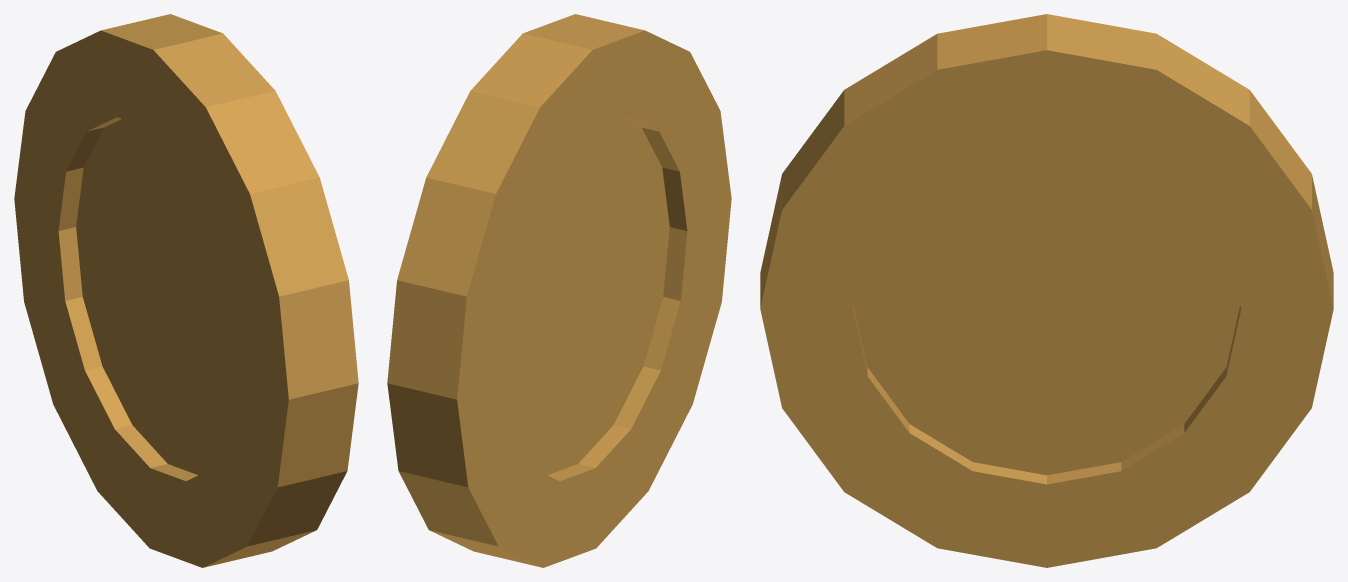
The model's file is coin.fbx.
3 renders of one model, left to right at view 1: azimuth 30°, elevation 25°; view 2: azimuth 150°, elevation 25°; view 3: azimuth 270°, elevation 25°, orthographic. The views are drawn at different scales.
Visible parts, largest first — view 1: bitcoin; view 2: bitcoin; view 3: bitcoin.
Boxes of the visible parts, bbox=[...] form: bitcoin: bbox=[14, 14, 358, 567]; bitcoin: bbox=[387, 14, 731, 567]; bitcoin: bbox=[760, 14, 1333, 567].
Bounding box in the file's own units: 1.03 × 6.7 × 6.69.
